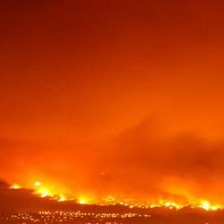fire: (8, 180, 221, 212)
